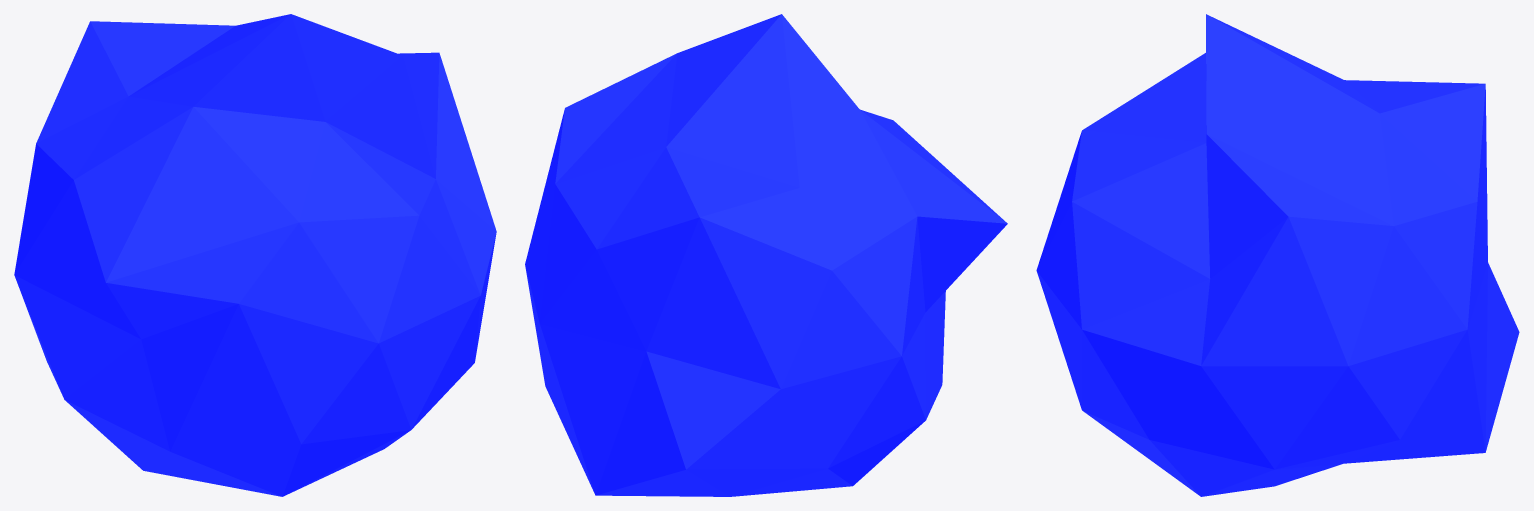
The model's file is plasma_ball.glb.
The picture shows the model from 3 angles, left to right: view 1: azimuth 30°, elevation 25°; view 2: azimuth 150°, elevation 25°; view 3: azimuth 270°, elevation 25°; orthographic projection. The views are drawn at different scales.
Parts seen in each view (by area): view 1: Icosphere; view 2: Icosphere; view 3: Icosphere.
Part boxes in pixels (x1,y1,x2,y2): Icosphere: (14,14,496,496); Icosphere: (525,14,1007,496); Icosphere: (1036,14,1519,496).
Bounding box in the file's own units: 1.96 × 2.19 × 2.03.
1 material, 1 textured.
